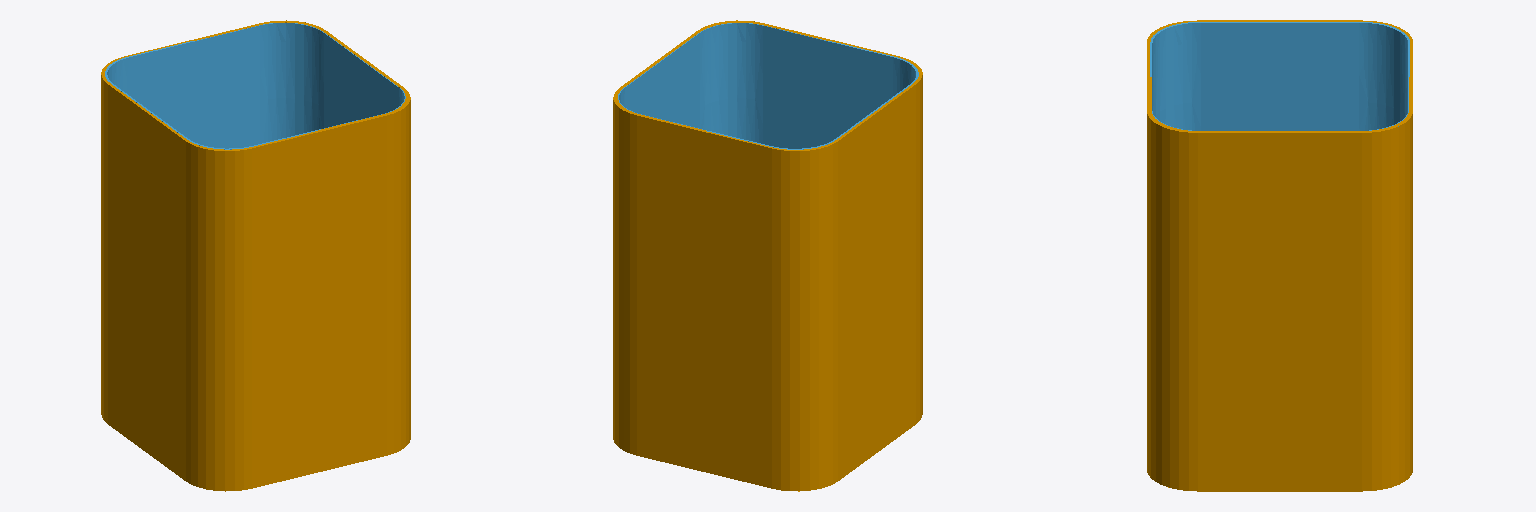
The robot description file, URDF, robot "sony_box":
<?xml version="1.0"?>
<robot name="sony_box">

  <link name="sony_box_outside">
    <visual>
      <origin xyz="0.0 0.0 0.0"/>
      <geometry>
        <mesh filename="../../meshes/objects/sony_box_outside.obj" scale="0.001 0.001 0.001"/>
      </geometry>
    </visual>
    <collision concave="yes">
      <origin xyz="0.0 0.0 0.0"/>
      <geometry>
        <mesh filename="../../meshes/objects/sony_box_outside.obj" scale="0.001 0.001 0.001"/>
      </geometry>
    </collision>
  </link>
  <link name="sony_box_inside">
    <visual>
      <origin xyz="0.0 0.0 0.0"/>
      <geometry>
        <mesh filename="../../meshes/objects/sony_box_inside.obj" scale="0.001 0.001 0.001"/>
      </geometry>
    </visual>
    <collision concave="yes">
      <origin xyz="0.0 0.0 0.0"/>
      <geometry>
        <mesh filename="../../meshes/objects/sony_box_inside.obj" scale="0.001 0.001 0.001"/>
      </geometry>
    </collision>
  </link>
  <joint name="j1"  type="fixed">
    <parent link="sony_box_outside"/>
    <child link="sony_box_inside"/>
  </joint>
</robot>

--- Facts derived from the render (not from the file) ---
3 views of the same robot in one strip: view 1: azimuth 30°, elevation 25°; view 2: azimuth 150°, elevation 25°; view 3: azimuth 270°, elevation 25° (orthographic).
Model sony_box with 2 links and 1 joints (1 fixed), rooted at sony_box_outside, posed every joint at zero.
Visible links, largest first — view 1: sony_box_outside, sony_box_inside; view 2: sony_box_outside, sony_box_inside; view 3: sony_box_outside, sony_box_inside.
Boxes of the visible links, left/top/right/bottom form: sony_box_outside: left=101, top=20, right=410, bottom=491; sony_box_inside: left=105, top=23, right=405, bottom=149; sony_box_outside: left=613, top=20, right=922, bottom=491; sony_box_inside: left=618, top=23, right=918, bottom=149; sony_box_outside: left=1147, top=20, right=1412, bottom=491; sony_box_inside: left=1150, top=22, right=1409, bottom=130.
Size in the robot's own frame: 0.183 by 0.183 by 0.2721 metres.
Meshes: 2 distinct files referenced, 2 mesh visuals loaded (2 OBJ).